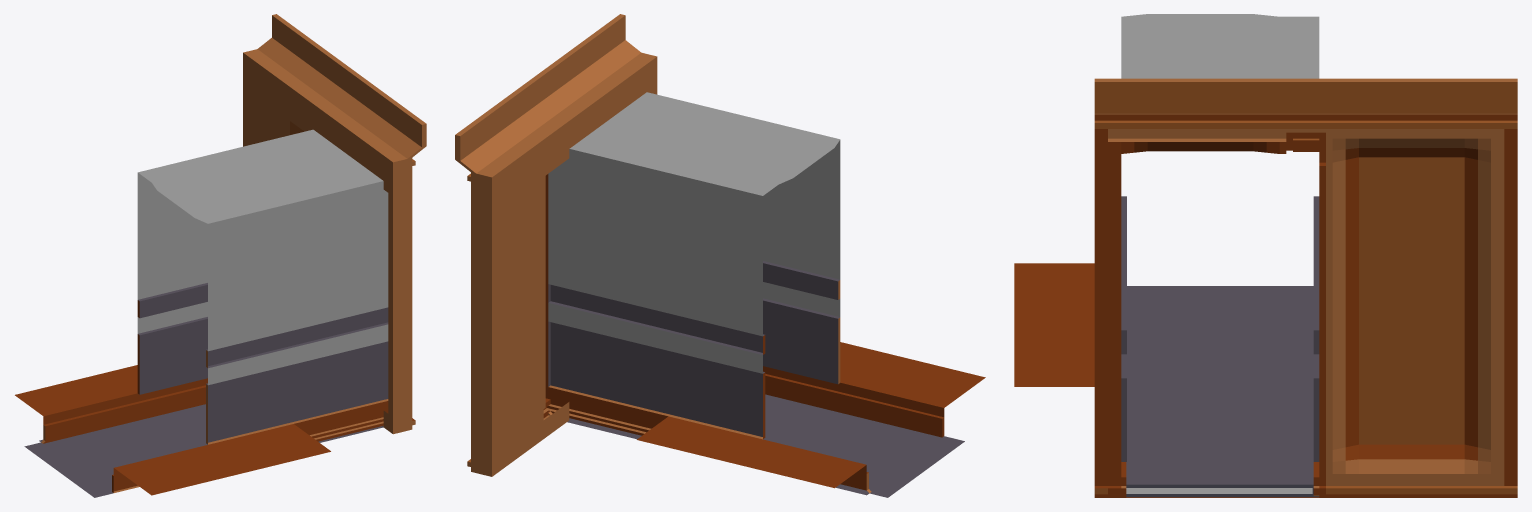
Rendered from elevatorWallDoor.fbx.
3 renders of one model, left to right at view 1: azimuth 30°, elevation 25°; view 2: azimuth 150°, elevation 25°; view 3: azimuth 270°, elevation 25°, orthographic. The views are drawn at different scales.
Visible parts, largest first — view 1: elevatorWallDoor; view 2: elevatorWallDoor; view 3: elevatorWallDoor.
Part boxes in pixels (x1,y1,x2,y2): elevatorWallDoor: (15,14,426,497); elevatorWallDoor: (455,14,985,497); elevatorWallDoor: (1014,14,1517,497).
Bounding box in the file's own units: 310 × 278 × 298.
